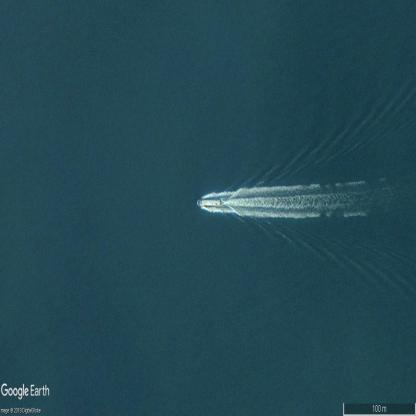ship: (196, 198, 221, 209)
